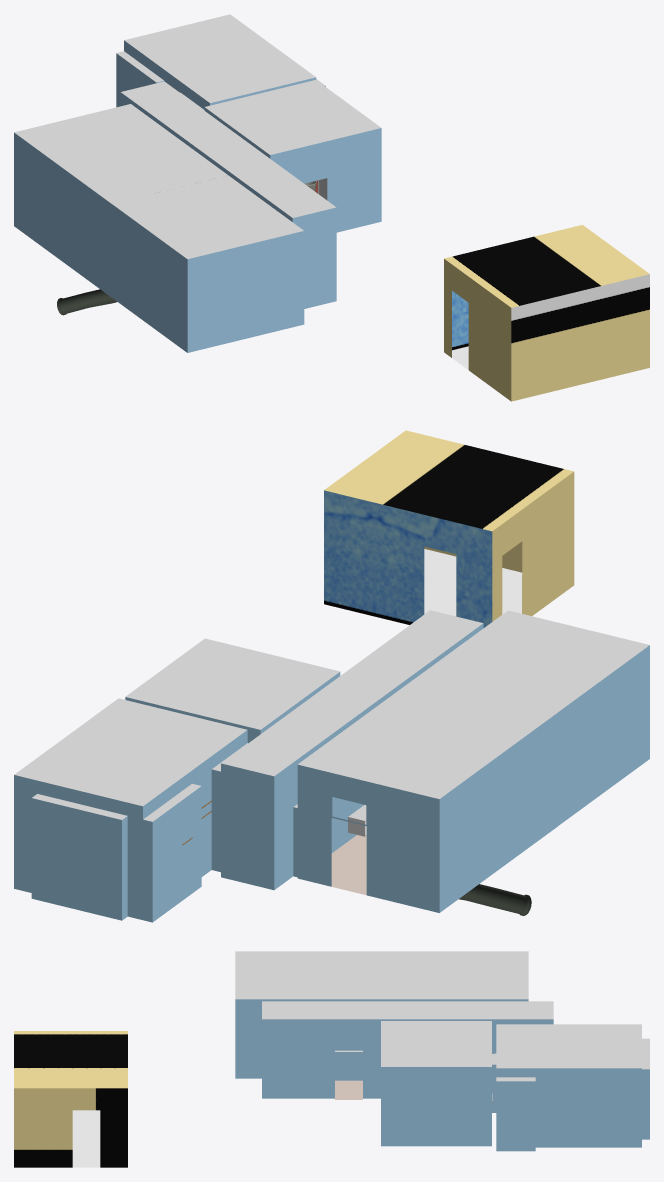
The model's file is RatHouse.fbx.
3 views of the same model, one above another, from view 1: azimuth 30°, elevation 25°; view 2: azimuth 150°, elevation 25°; view 3: azimuth 270°, elevation 25° (orthographic). The views are drawn at different scales.
Parts seen in each view (by area): view 1: room.001, kitchen, Coffee table, bathroom, hallway, room, pipe; view 2: Coffee table, room.001, room, kitchen, hallway, bathroom, pipe; view 3: room, room.001, hallway, bathroom, kitchen, Coffee table.
Boxes of the visible parts, left/top/right/bottom form: room.001: left=444, top=225, right=649, bottom=401; kitchen: left=111, top=175, right=304, bottom=352; Coffee table: left=14, top=104, right=227, bottom=297; bathroom: left=204, top=80, right=381, bottom=232; hallway: left=120, top=81, right=336, bottom=308; room: left=116, top=14, right=325, bottom=110; pipe: left=57, top=289, right=117, bottom=315; Coffee table: left=293, top=678, right=557, bottom=912; room.001: left=324, top=430, right=574, bottom=627; room: left=14, top=698, right=247, bottom=922; kitchen: left=416, top=610, right=649, bottom=825; hallway: left=221, top=610, right=483, bottom=890; bathroom: left=125, top=638, right=340, bottom=743; pipe: left=459, top=884, right=531, bottom=915; room: left=496, top=1024, right=649, bottom=1151; room.001: left=14, top=1031, right=127, bottom=1167; hallway: left=262, top=1001, right=553, bottom=1099; bathroom: left=381, top=1021, right=496, bottom=1146; kitchen: left=235, top=951, right=363, bottom=1078; Coffee table: left=363, top=951, right=528, bottom=1001.
Size of the model in its own units: 1186 by 447 by 2238.
